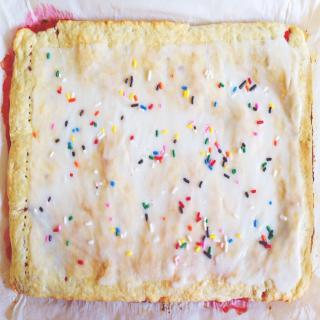Cake: (9, 19, 311, 303)
